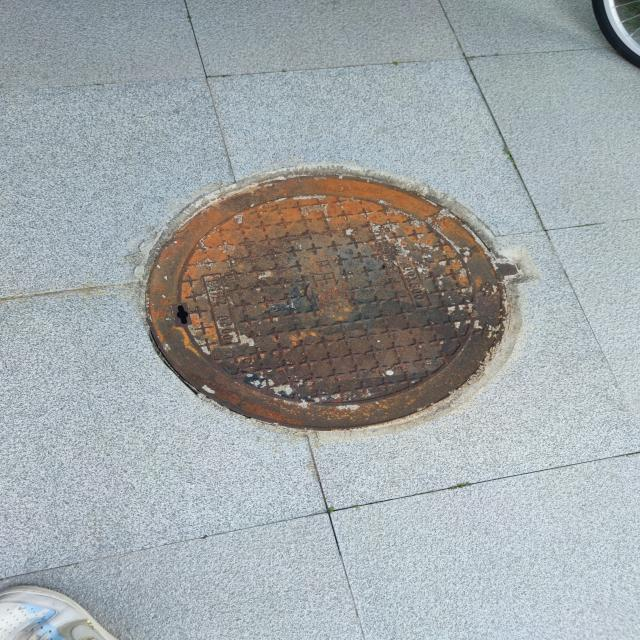Good: (134, 166, 523, 436)
